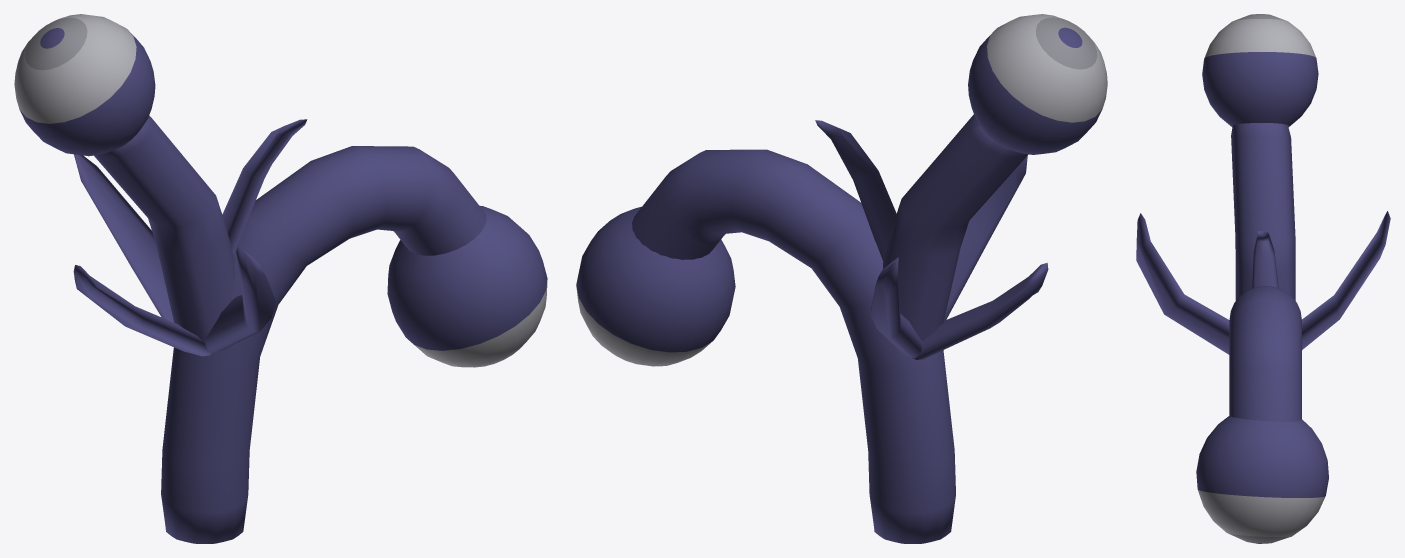
Rendered from eyeplant2.fbx.
The picture shows the model from 3 angles, left to right: view 1: azimuth 30°, elevation 25°; view 2: azimuth 150°, elevation 25°; view 3: azimuth 270°, elevation 25°; orthographic projection. The views are drawn at different scales.
Visible parts, largest first — view 1: eyeplant2; view 2: eyeplant2; view 3: eyeplant2.
Boxes of the visible parts, x1,y1,x2,y2 form: eyeplant2: (14,14,547,543); eyeplant2: (576,14,1107,543); eyeplant2: (1136,14,1390,543).
Size of the model in its own units: 5.61 by 5.63 by 2.9.
